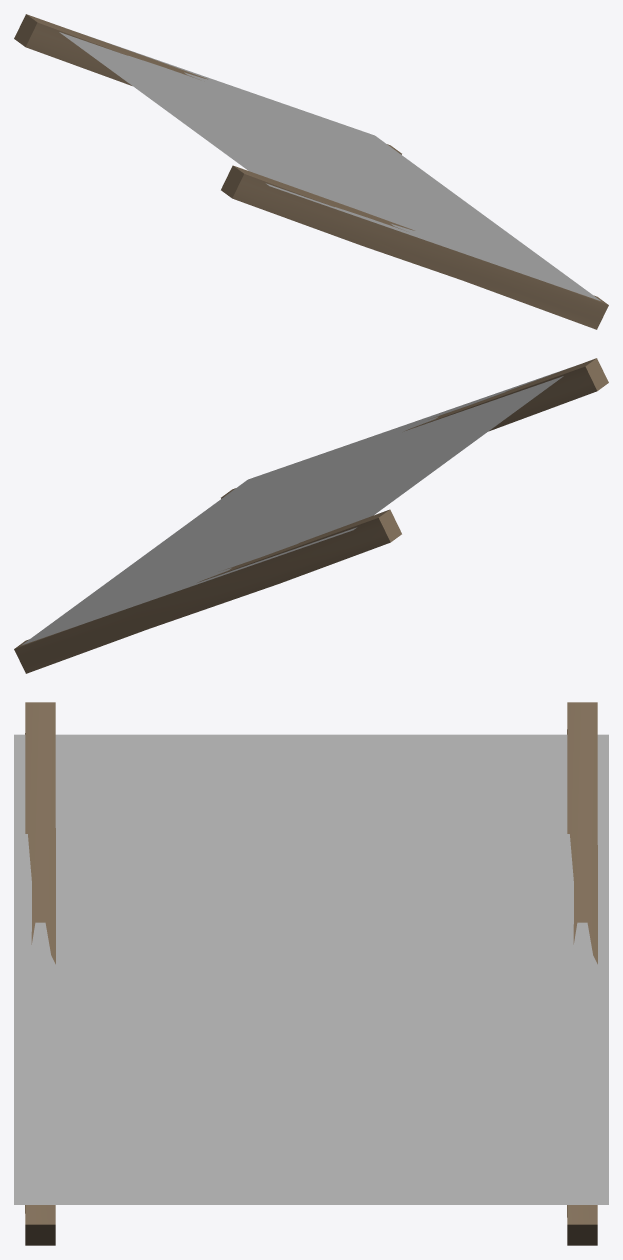
File: Roof.fbx
3 renders of one model, top to bottom at view 1: azimuth 30°, elevation 25°; view 2: azimuth 150°, elevation 25°; view 3: azimuth 270°, elevation 25°, orthographic. The views are drawn at different scales.
Visible parts, largest first — view 1: Roof, BeamL, BeamR; view 2: Roof, BeamR, BeamL; view 3: Roof, BeamR, BeamL.
Part boxes in pixels (bbox=[...]): Roof: bbox=[59, 32, 600, 300]; BeamL: bbox=[221, 165, 608, 329]; BeamR: bbox=[14, 14, 401, 154]; Roof: bbox=[22, 367, 571, 644]; BeamR: bbox=[14, 509, 401, 673]; BeamL: bbox=[221, 358, 608, 498]; Roof: bbox=[14, 734, 608, 1204]; BeamR: bbox=[567, 702, 597, 1245]; BeamL: bbox=[25, 702, 55, 1245].
Size of the model in its own units: 12.29 by 7.55 by 12.82.
